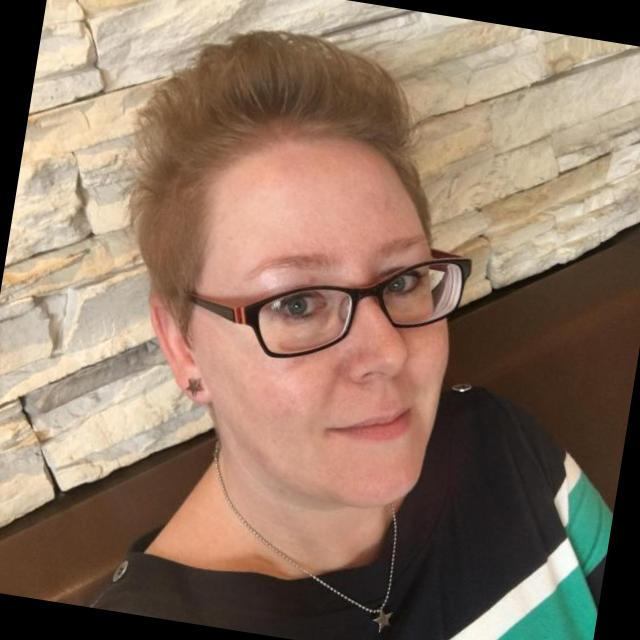redness: (335, 455, 412, 501), (254, 376, 302, 418), (333, 348, 370, 382), (248, 445, 282, 470)
